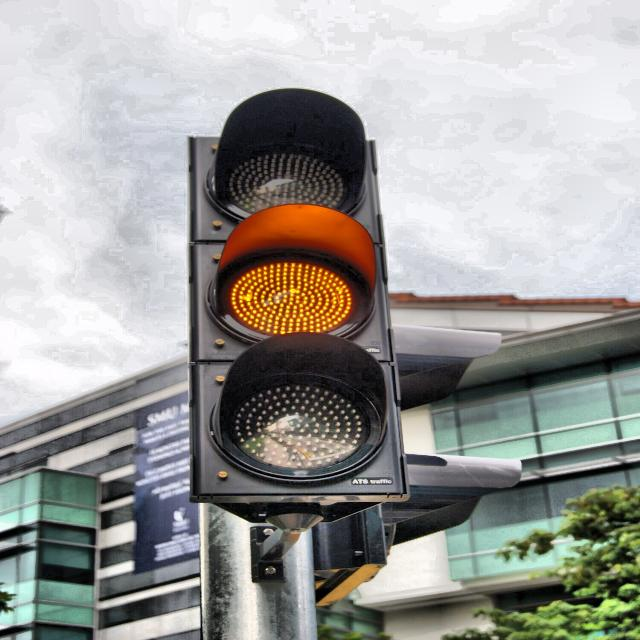yellow: (186, 86, 403, 490)
